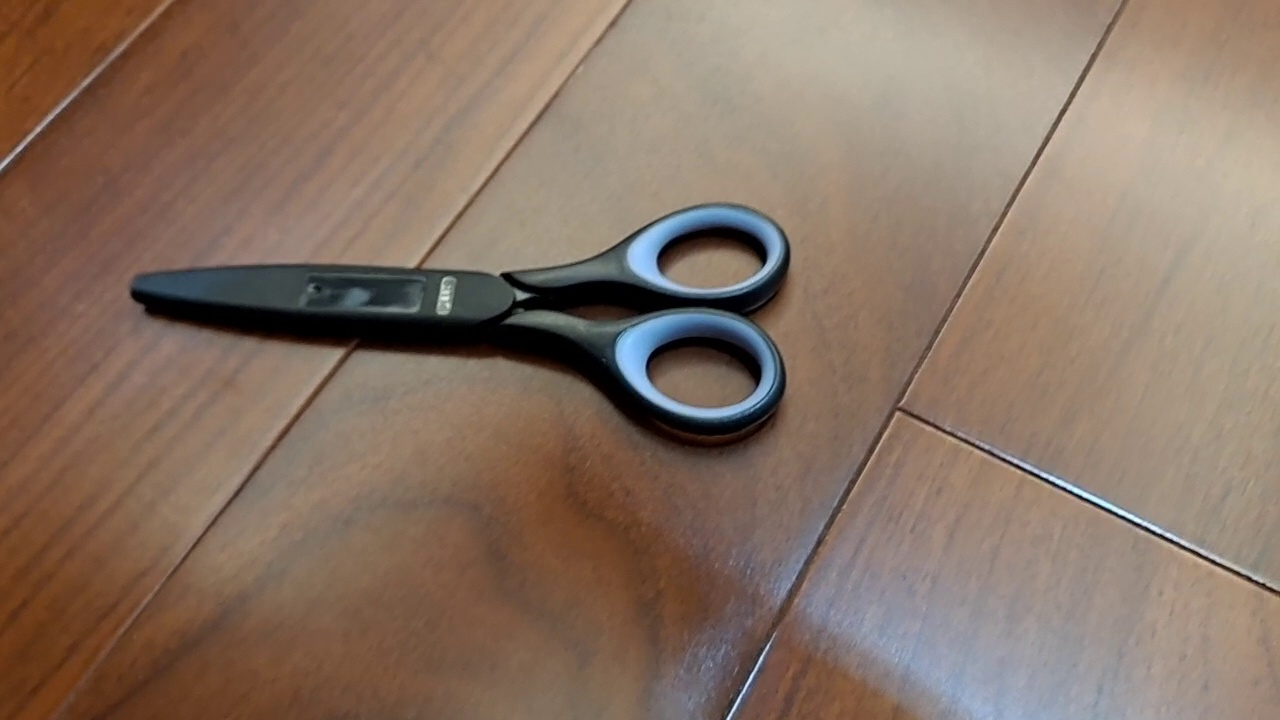scissors: (126, 199, 792, 440)
